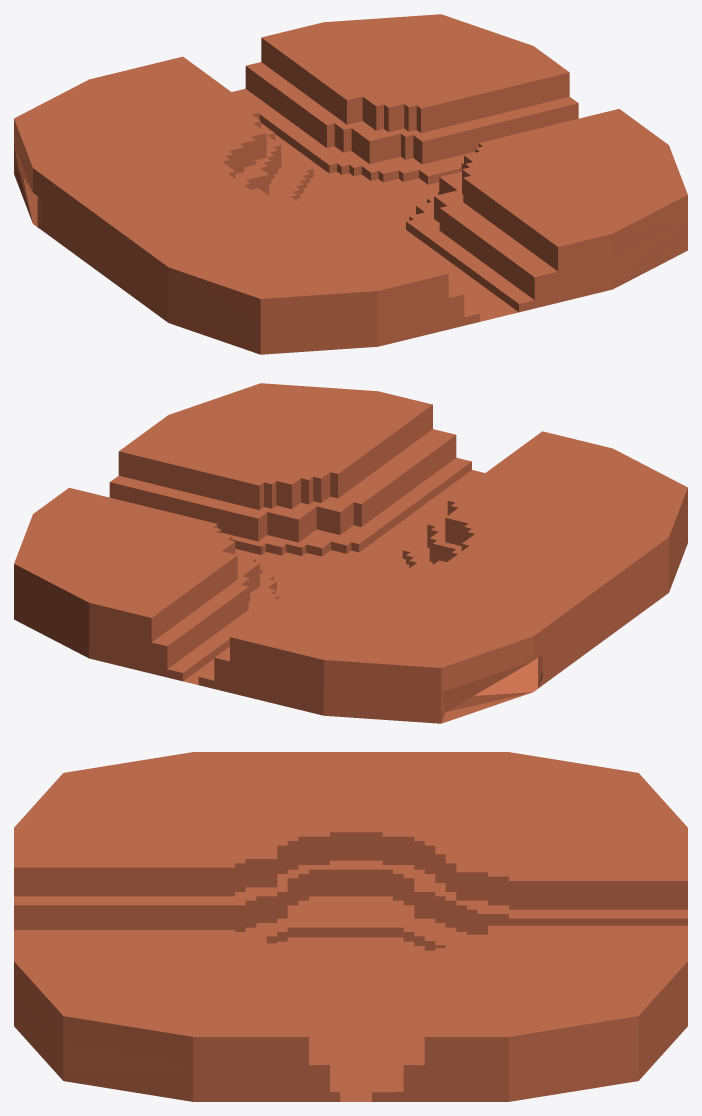
The model's file is field.obj.
3 views of the same model, one above another, from view 1: azimuth 30°, elevation 25°; view 2: azimuth 150°, elevation 25°; view 3: azimuth 270°, elevation 25° (orthographic). The views are drawn at different scales.
Visible parts, largest first — view 1: ステージ; view 2: ステージ; view 3: ステージ.
Part boxes in pixels (x1,y1,x2,y2): ステージ: [14, 14, 687, 354]; ステージ: [14, 383, 687, 723]; ステージ: [14, 752, 687, 1101].
Size of the model in its own units: 2000 by 213 by 2000.
